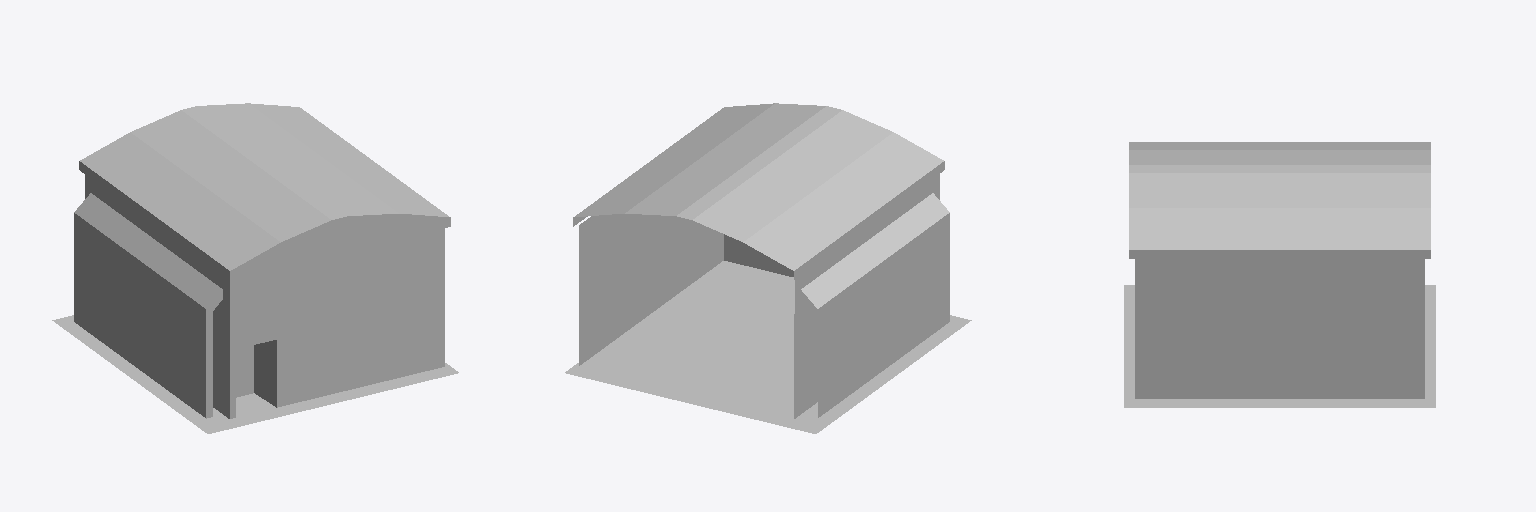
File: Cold Storage Warehouse 2.obj
3 views of the same model, side by side, from view 1: azimuth 30°, elevation 25°; view 2: azimuth 150°, elevation 25°; view 3: azimuth 270°, elevation 25° (orthographic).
Visible parts, largest first — view 1: polygon3, polygon2, polygon0, polygon1; view 2: polygon2, polygon1, polygon3, polygon0; view 3: polygon3, polygon2, polygon1.
Part boxes in pixels (x1,y1,x2,y2): polygon3: (85,175,447,418); polygon2: (79,103,450,279); polygon0: (74,193,222,418); polygon1: (52,315,458,433); polygon2: (573,103,944,279); polygon1: (565,261,971,433); polygon3: (579,174,939,418); polygon0: (801,193,949,417); polygon3: (1135,259,1424,398); polygon2: (1129,142,1430,258); polygon1: (1124,285,1435,407).
Bounding box in the file's own units: 112 × 77.11 × 120.